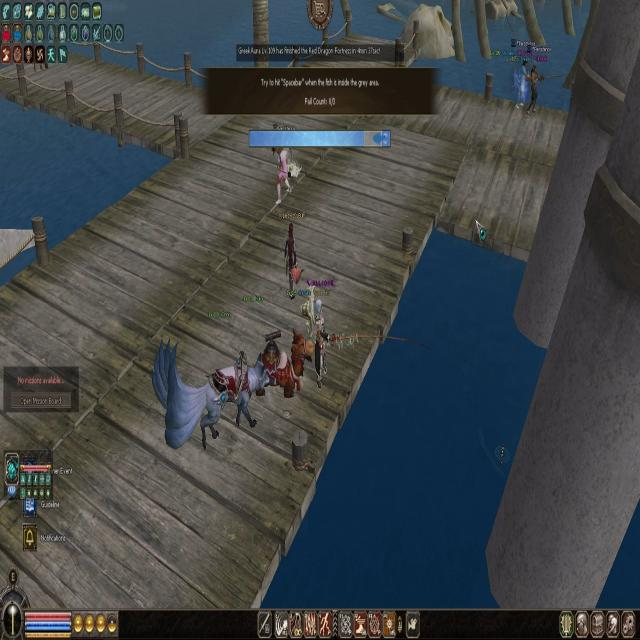box: (364, 130, 382, 147)
fishes: (372, 131, 389, 146)
